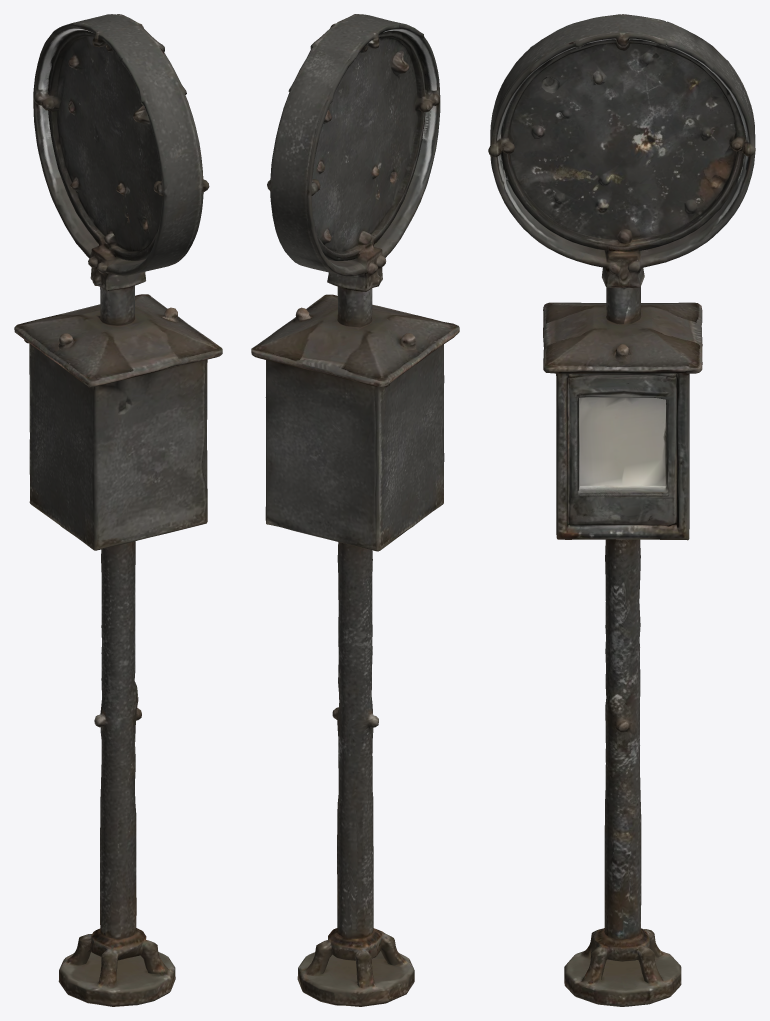
Rendered from bus-stop-marker.glb.
The picture shows the model from 3 angles, left to right: view 1: azimuth 30°, elevation 25°; view 2: azimuth 150°, elevation 25°; view 3: azimuth 270°, elevation 25°; orthographic projection.
Parts seen in each view (by area): view 1: tripo_node_e94913d7-80ac-4e16-a15c-feaf9fe33a78; view 2: tripo_node_e94913d7-80ac-4e16-a15c-feaf9fe33a78; view 3: tripo_node_e94913d7-80ac-4e16-a15c-feaf9fe33a78.
Part boxes in pixels (<box>): tripo_node_e94913d7-80ac-4e16-a15c-feaf9fe33a78: <box>14,14,222,1006</box>; tripo_node_e94913d7-80ac-4e16-a15c-feaf9fe33a78: <box>251,14,459,1006</box>; tripo_node_e94913d7-80ac-4e16-a15c-feaf9fe33a78: <box>488,14,755,1006</box>.
Bounding box in the file's own units: 0.1492 × 0.9999 × 0.2523.
Materials: 1 (1 with a texture image).
